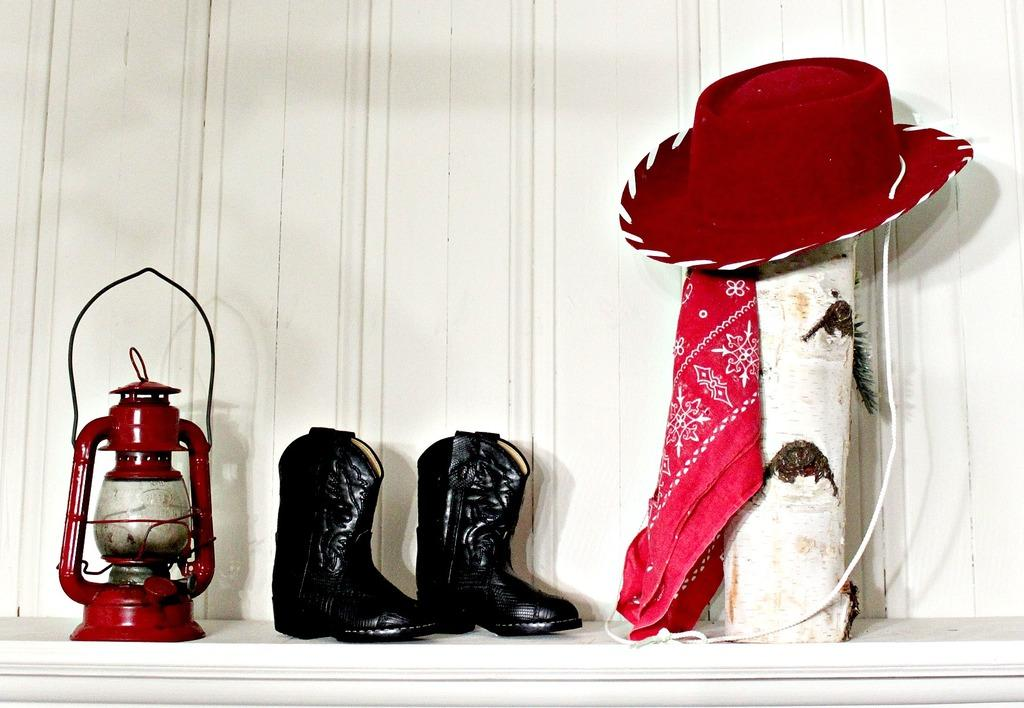Hat: (603, 54, 972, 644)
